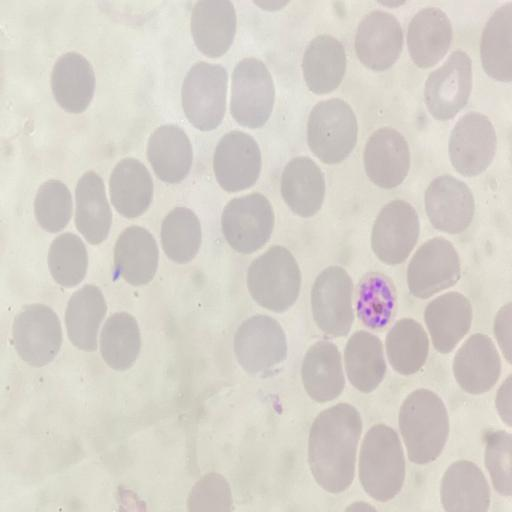Infected: (351, 271, 400, 328)
Uninfected: (307, 404, 362, 493), (400, 388, 451, 467), (360, 424, 408, 503), (246, 247, 304, 311), (426, 49, 477, 119), (222, 190, 276, 255), (307, 99, 359, 166), (404, 239, 463, 298), (73, 169, 118, 246), (181, 59, 227, 133), (229, 56, 276, 128), (453, 330, 504, 396), (309, 264, 352, 340), (428, 290, 476, 357), (354, 10, 405, 72), (449, 113, 499, 176), (371, 198, 419, 263), (238, 317, 290, 377), (423, 176, 476, 234), (9, 306, 61, 365), (108, 157, 156, 219), (214, 130, 262, 191), (280, 158, 327, 220), (342, 330, 386, 395), (300, 35, 346, 96), (302, 338, 345, 403), (363, 129, 410, 188), (114, 225, 160, 285), (64, 286, 107, 349), (51, 53, 96, 113), (409, 9, 453, 69), (191, 0, 236, 58), (160, 206, 203, 265), (440, 459, 487, 512), (386, 320, 428, 379), (99, 310, 141, 369), (147, 126, 190, 181), (47, 234, 87, 291), (36, 177, 75, 233)
